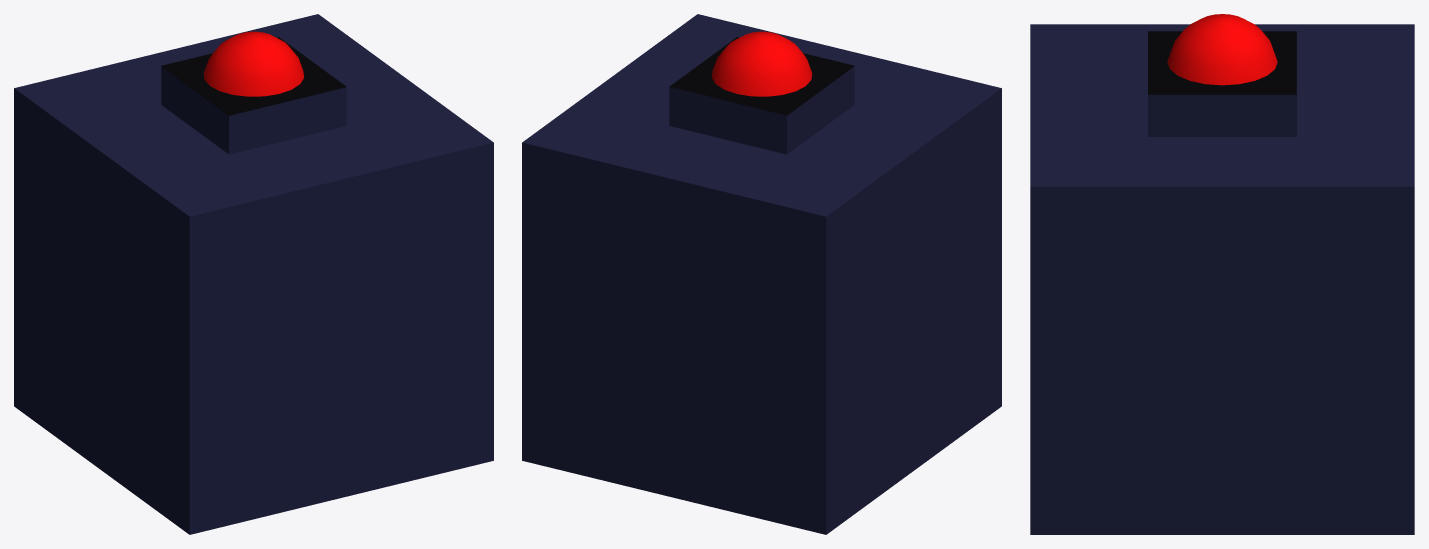
Rendered from button_table.fbx.
The picture shows the model from 3 angles, left to right: view 1: azimuth 30°, elevation 25°; view 2: azimuth 150°, elevation 25°; view 3: azimuth 270°, elevation 25°; orthographic projection. The views are drawn at different scales.
Visible parts, largest first — view 1: pSphere2; view 2: pSphere2; view 3: pSphere2.
Boxes of the visible parts, x1,y1,x2,y2 form: pSphere2: (14,14,493,534); pSphere2: (522,14,1001,534); pSphere2: (1030,14,1414,534).
Size of the model in its own units: 1 by 1.25 by 1.
